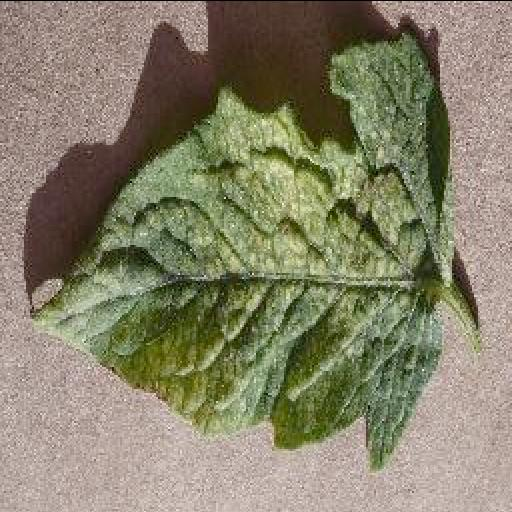disease_tomato: (26, 34, 454, 472)
